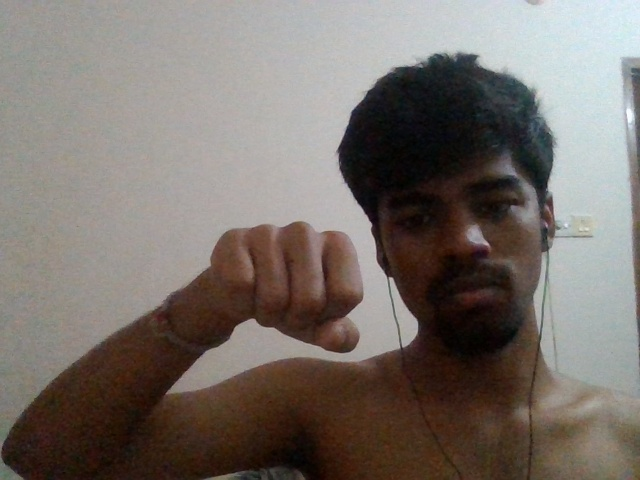Yes: (208, 223, 370, 357)
